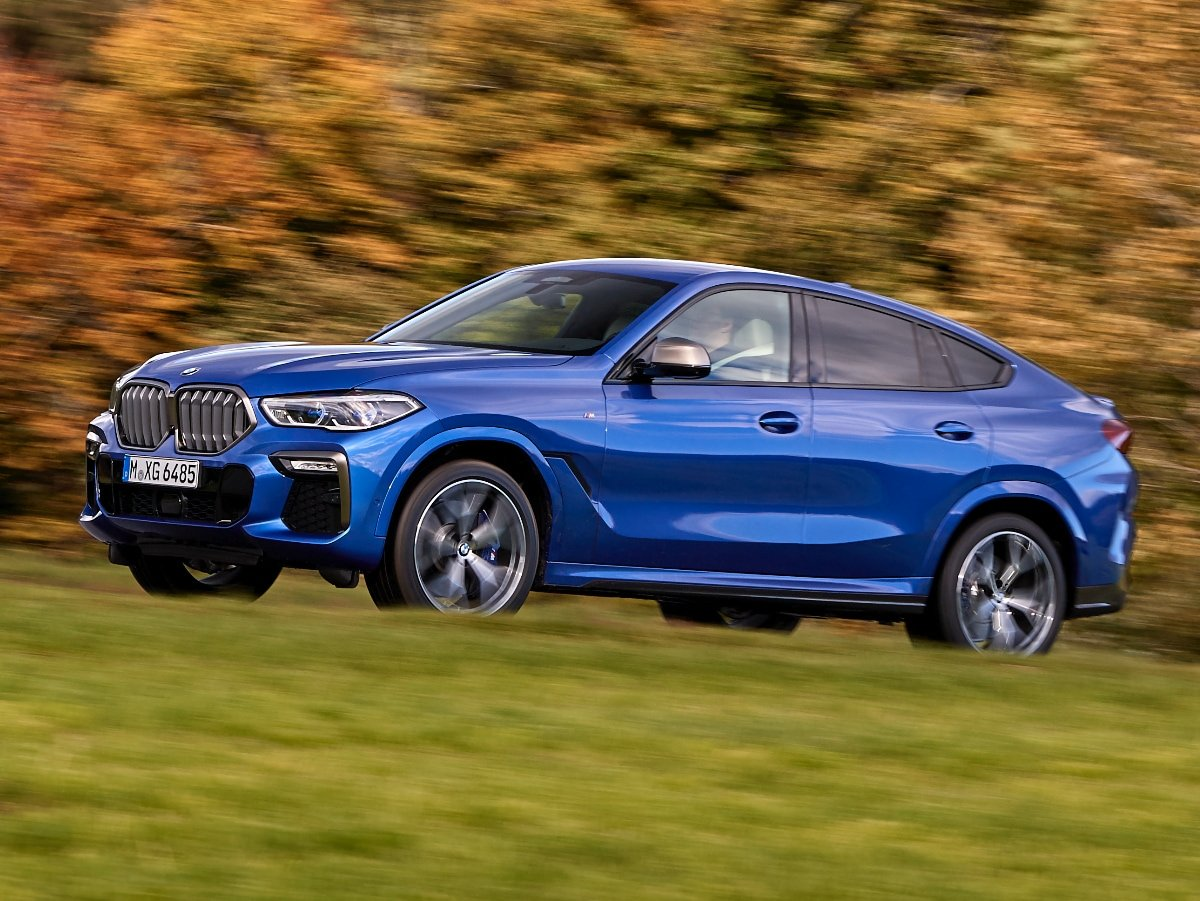car: (75, 255, 1141, 660)
